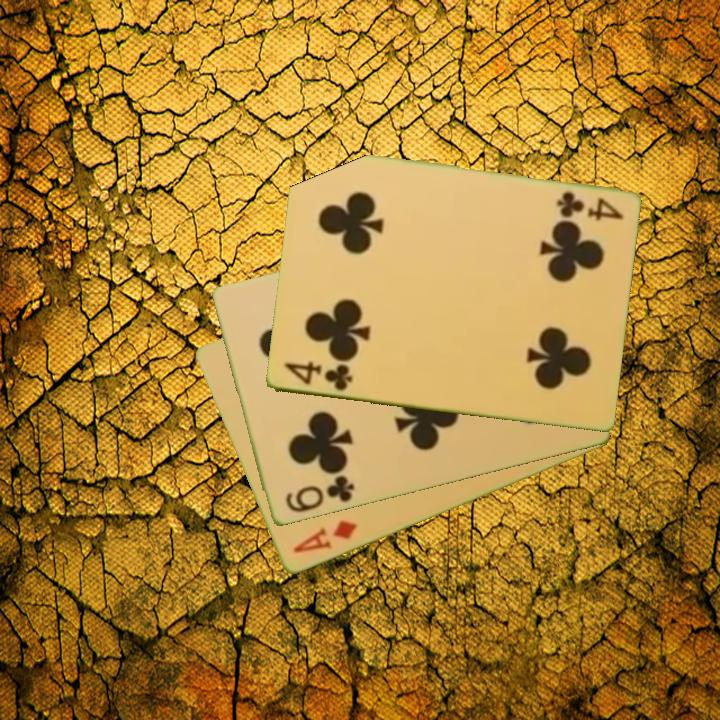4c: (280, 358, 355, 394), (553, 188, 626, 223)
6c: (282, 472, 357, 516)
Ad: (289, 517, 360, 557)
